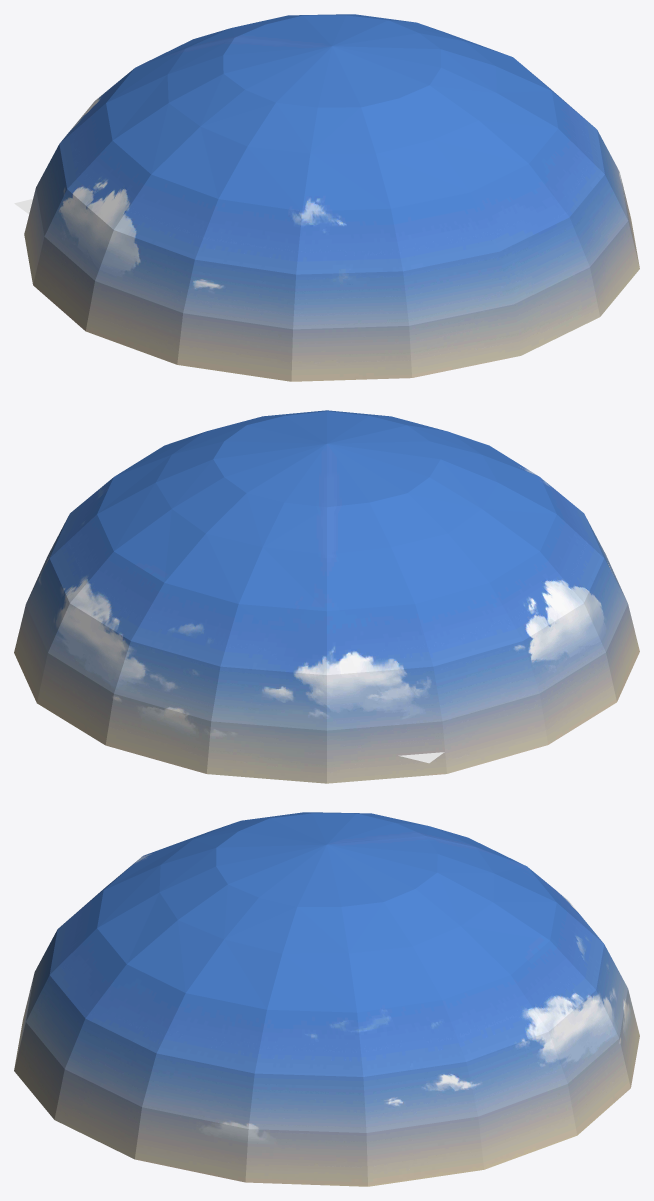
Rendered from map_qms.fbx.
The picture shows the model from 3 angles, top to bottom: view 1: azimuth 30°, elevation 25°; view 2: azimuth 150°, elevation 25°; view 3: azimuth 270°, elevation 25°; orthographic projection.
Parts seen in each view (by area): view 1: qms_Sky; view 2: qms_Sky; view 3: qms_Sky.
Part boxes in pixels (x1,y1,x2,y2): qms_Sky: (24, 14, 639, 381); qms_Sky: (14, 410, 639, 783); qms_Sky: (14, 812, 639, 1186).
Bounding box in the file's own units: 3526 × 1306 × 3527.
Materials: 26 (24 with a texture image).
